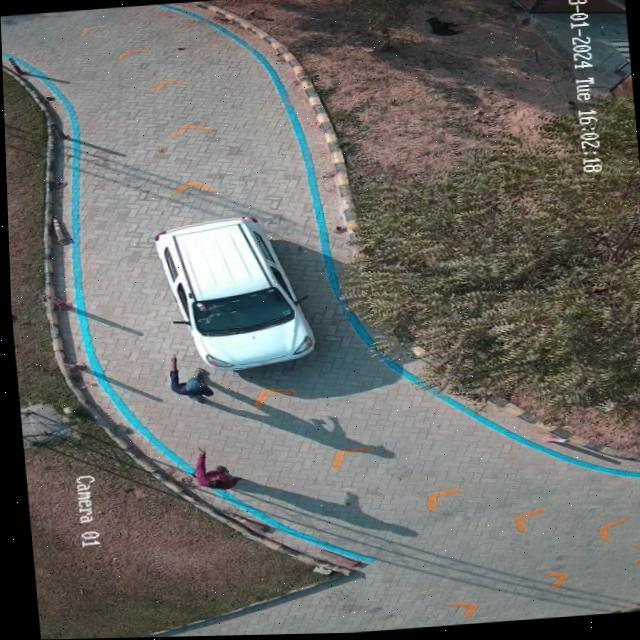car: (152, 218, 312, 372)
